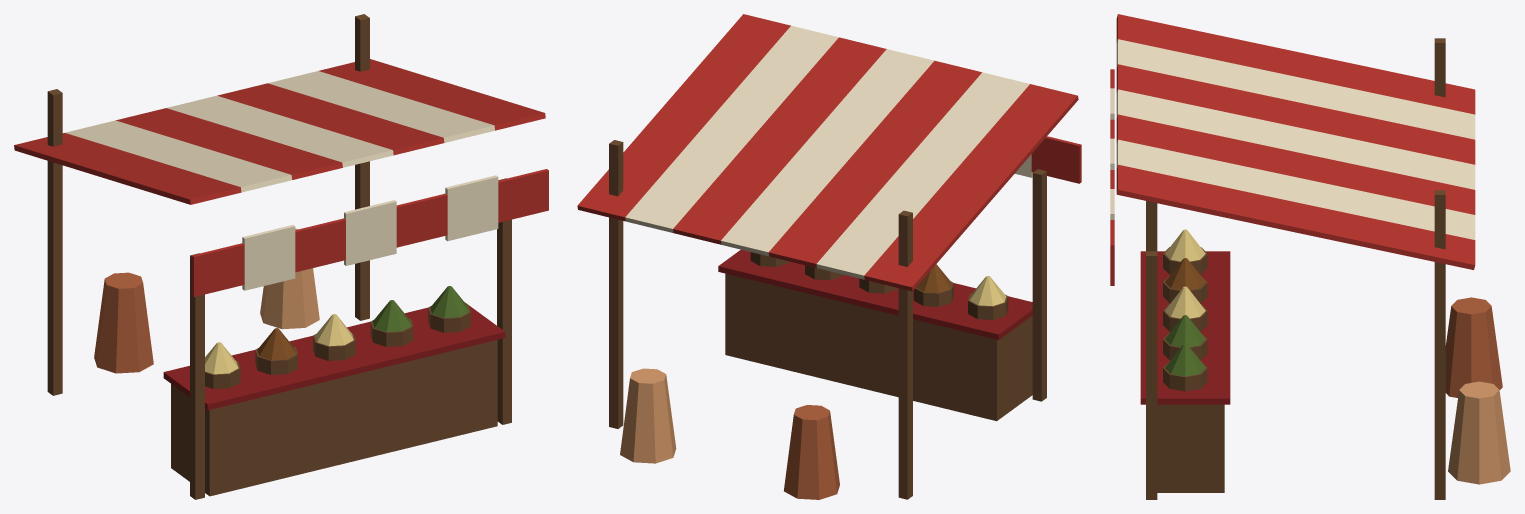
Rendered from stall_spice.glb.
3 views of the same model, side by side, from view 1: azimuth 30°, elevation 25°; view 2: azimuth 150°, elevation 25°; view 3: azimuth 270°, elevation 25° (orthographic). The views are drawn at different scales.
Parts seen in each view (by area): view 1: Stall; view 2: Stall; view 3: Stall.
Part boxes in pixels (x1,y1,x2,y2): Stall: (14,14,548,499); Stall: (577,14,1081,499); Stall: (1110,14,1510,499).
Bounding box in the file's own units: 3.71 × 3.15 × 3.57.
